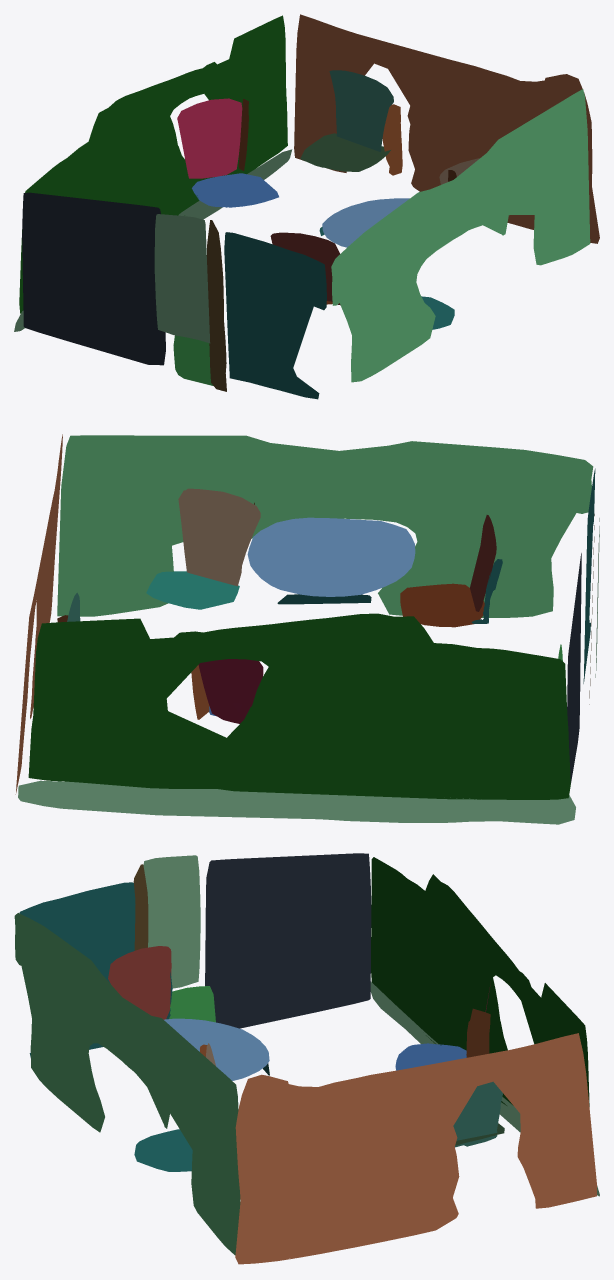
File: Ours-scene0427_00.glb
The picture shows the model from 3 angles, top to bottom: view 1: azimuth 30°, elevation 25°; view 2: azimuth 150°, elevation 25°; view 3: azimuth 270°, elevation 25°; orthographic projection. The views are drawn at different scales.
Parts seen in each view (by area): view 1: lean; view 2: lean; view 3: lean.
Boxes of the visible parts, <box> form: lean: <box>14,14,599,399</box>; lean: <box>15,434,599,824</box>; lean: <box>14,853,599,1264</box>.
Size of the model in its own units: 4.19 by 1.41 by 3.8.
